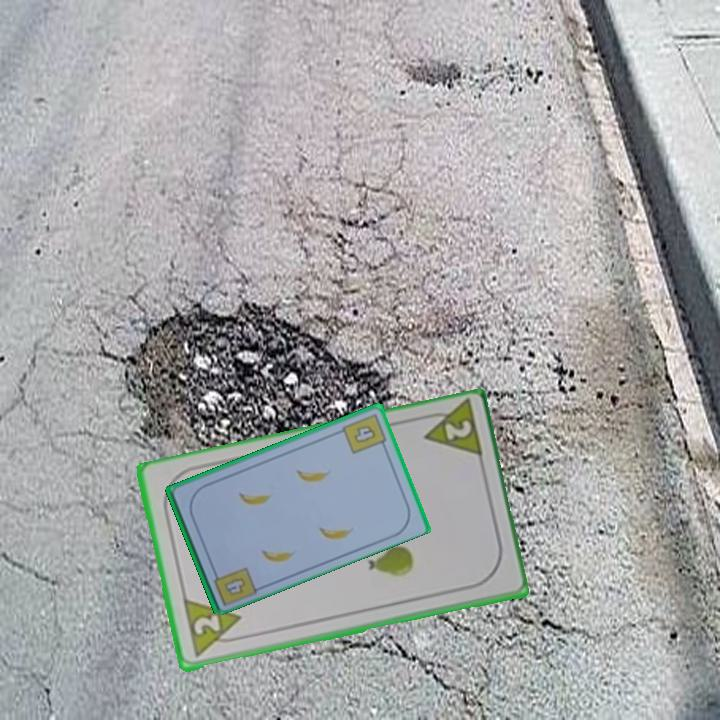2p: (415, 399, 486, 464), (179, 596, 248, 661)
4b: (339, 410, 390, 457), (221, 574, 249, 598)
